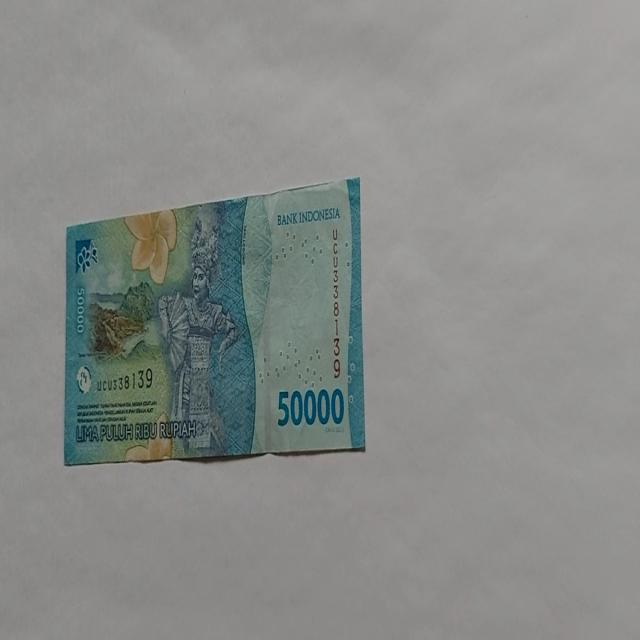lima puluh ribu rupiah: (62, 175, 366, 466)
